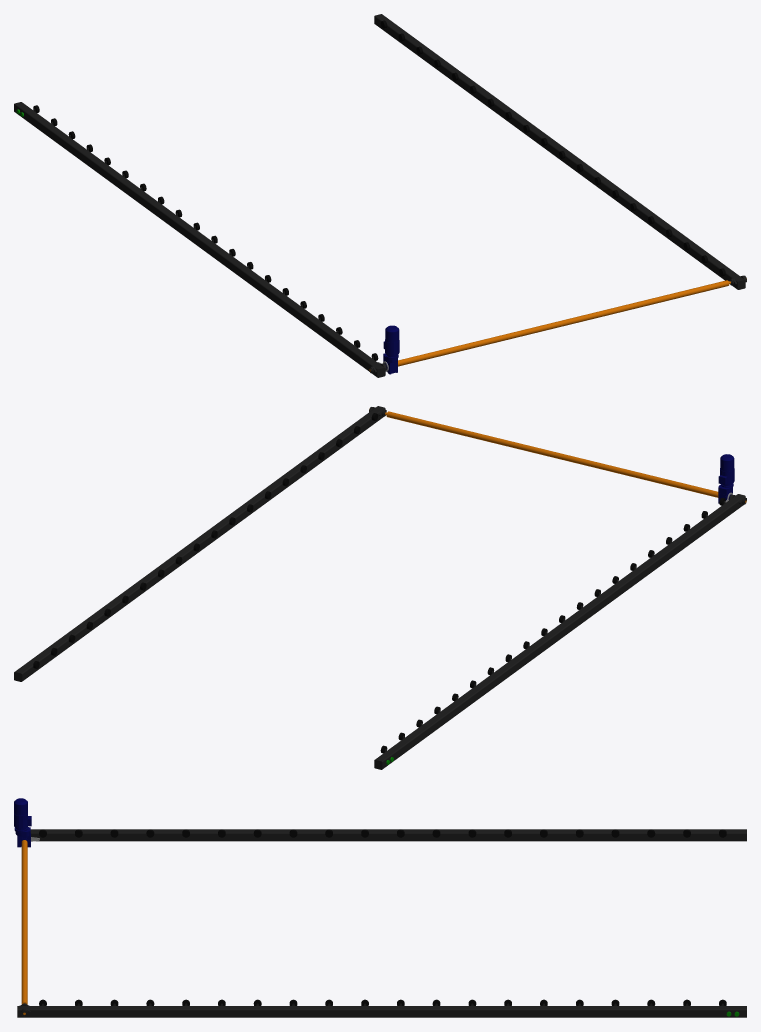
Rendered from SHELF-B-4.obj.
3 views of the same model, one above another, from view 1: azimuth 30°, elevation 25°; view 2: azimuth 150°, elevation 25°; view 3: azimuth 270°, elevation 25° (orthographic).
Visible parts, largest first — view 1: Mesh; view 2: Mesh; view 3: Mesh.
Part boxes in pixels (x1=…): Mesh: x1=14, y1=14, x2=746, y2=377; Mesh: x1=14, y1=406, x2=746, y2=769; Mesh: x1=14, y1=798, x2=746, y2=1017.
Bounding box in the file's own units: 5509 × 634 × 9260.
